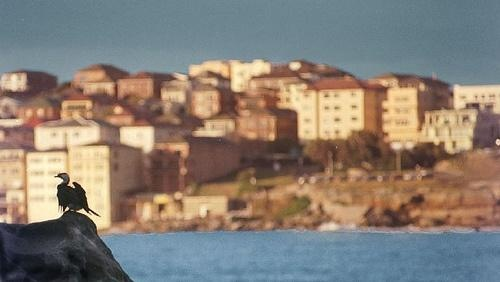bird: (54, 173, 100, 219)
